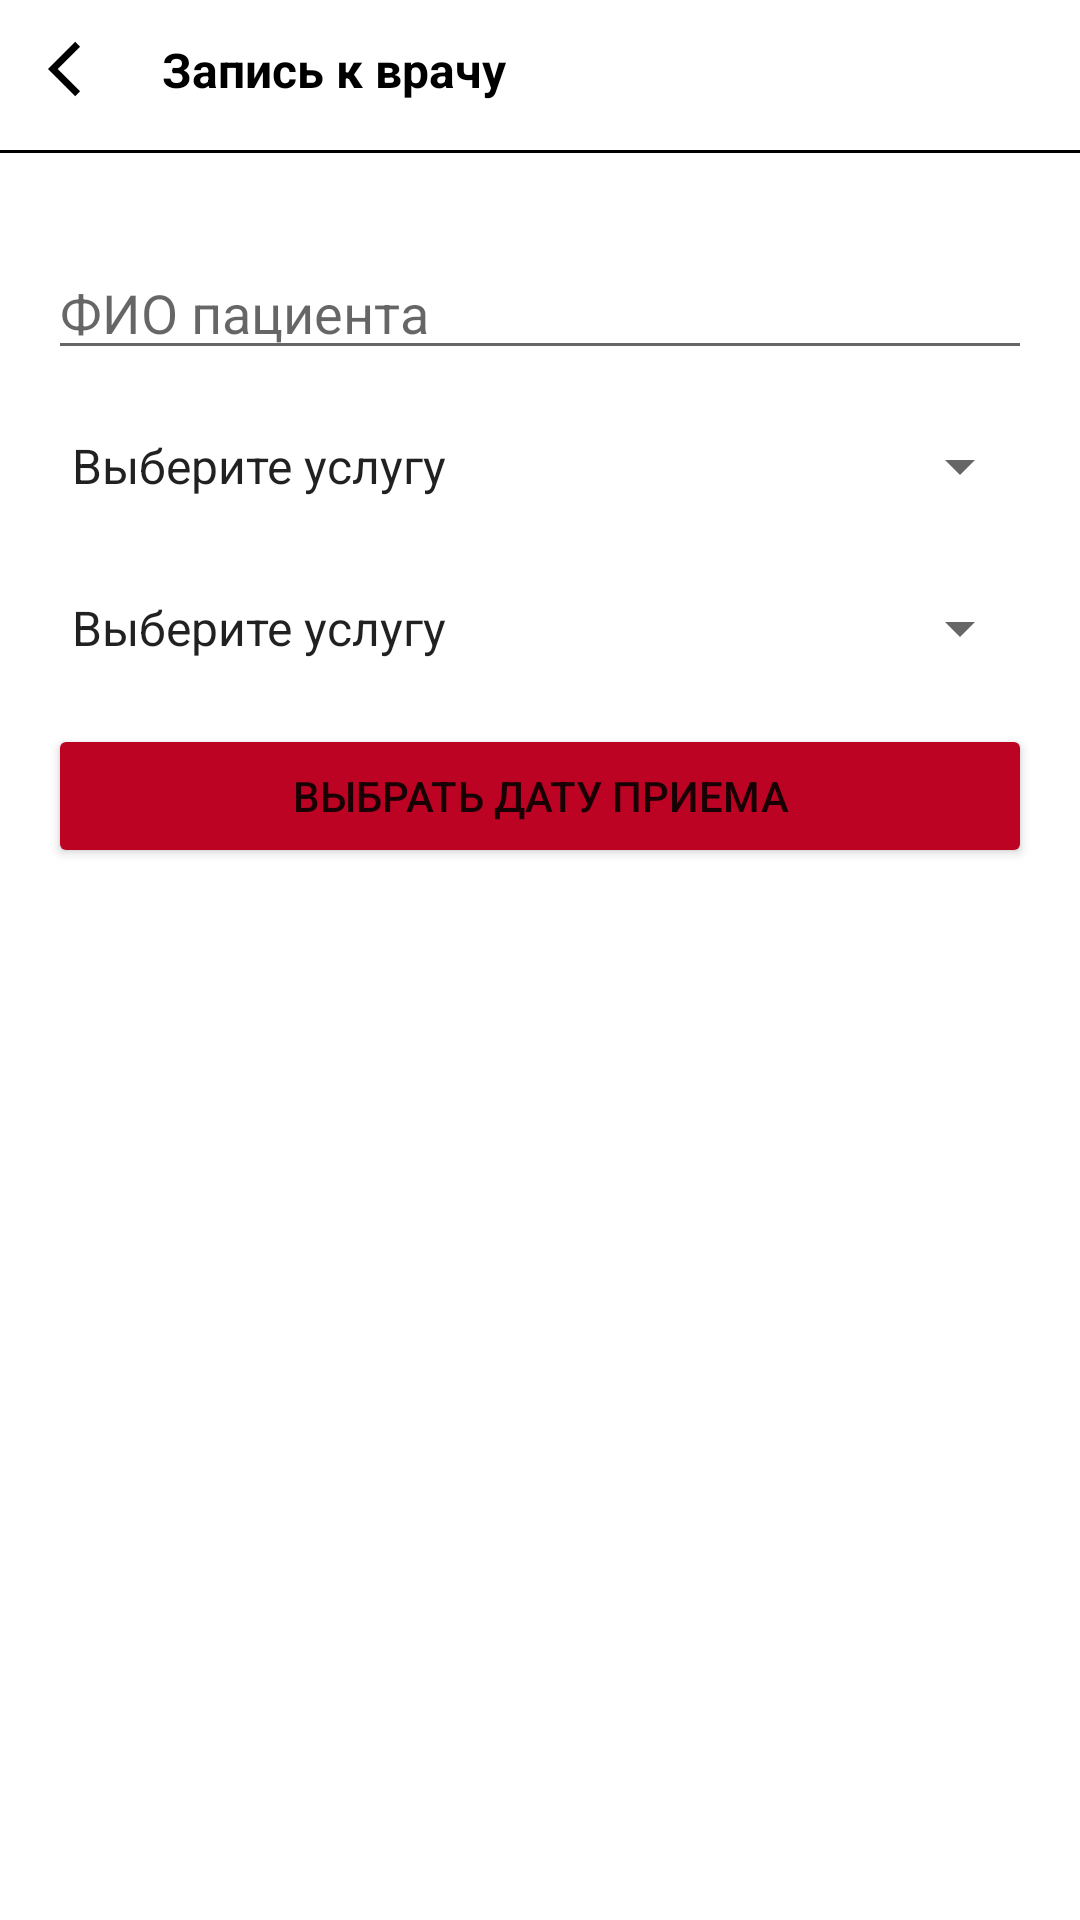

Icon click points for this 1080 × 1920 phone screenshot, format (x,y):
back arrow: (64,69)
